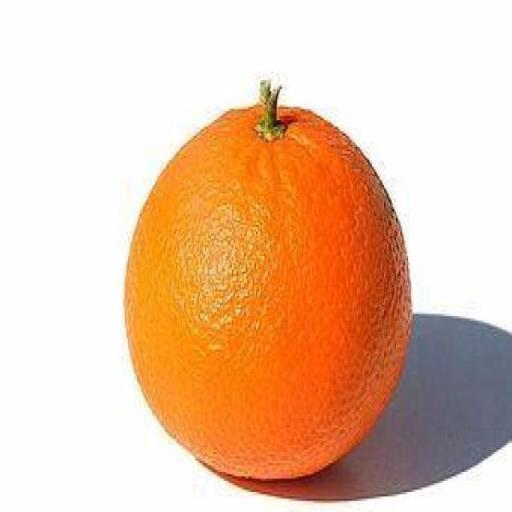fruit: (125, 83, 409, 477)
